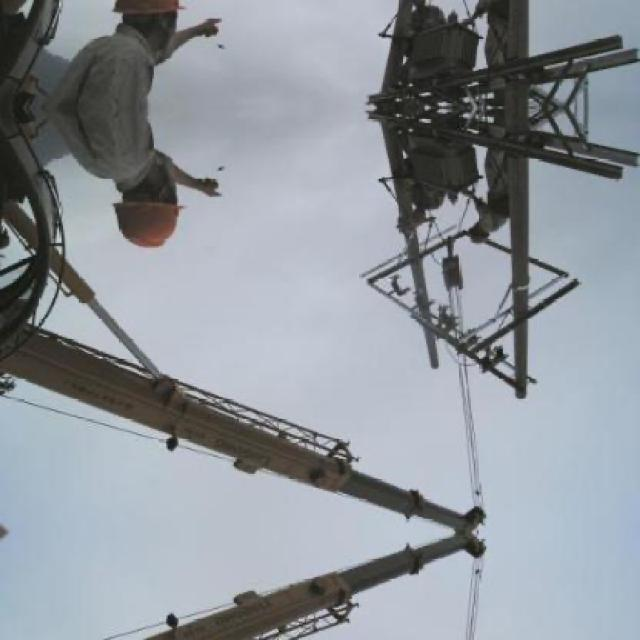con casco: (79, 123, 230, 280)
